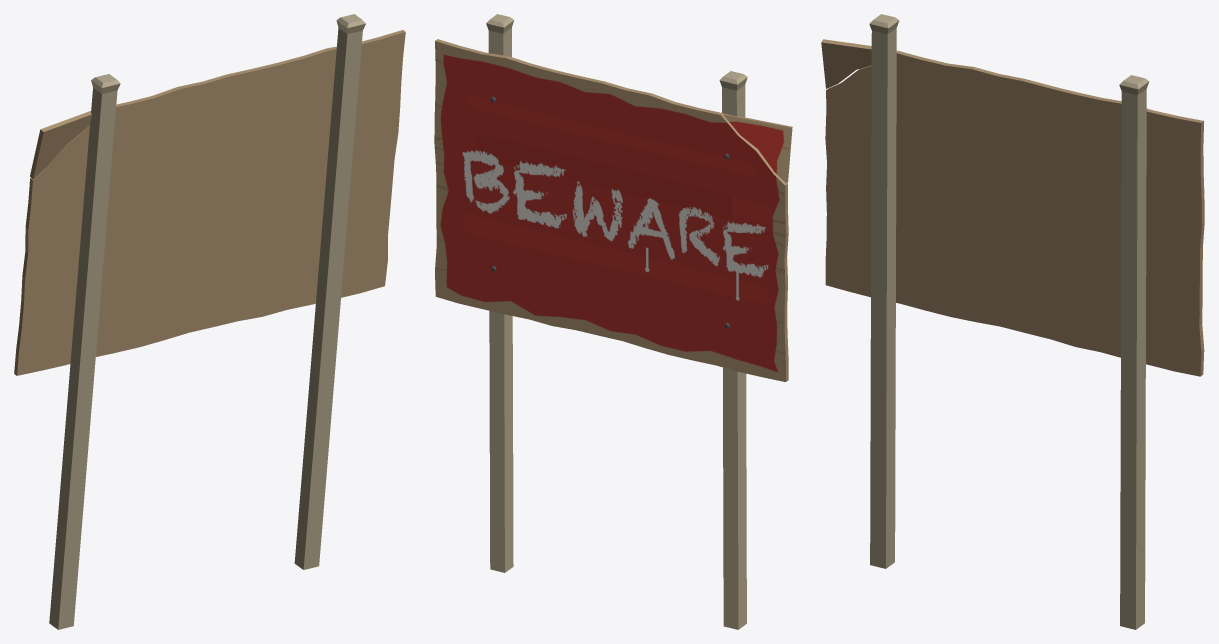
The model's file is turn-back-sign-beware.glb.
The picture shows the model from 3 angles, left to right: view 1: azimuth 30°, elevation 25°; view 2: azimuth 150°, elevation 25°; view 3: azimuth 330°, elevation 25°; orthographic projection. The views are drawn at different scales.
Visible parts, largest first — view 1: TurnBackSign; view 2: TurnBackSign; view 3: TurnBackSign.
Boxes of the visible parts, left/top/right/bottom form: TurnBackSign: left=14, top=14, right=405, bottom=629; TurnBackSign: left=434, top=14, right=792, bottom=629; TurnBackSign: left=821, top=14, right=1204, bottom=629.
Bounding box in the file's own units: 0.9264 × 1.3 × 0.1323.
4 materials, 1 textured.
